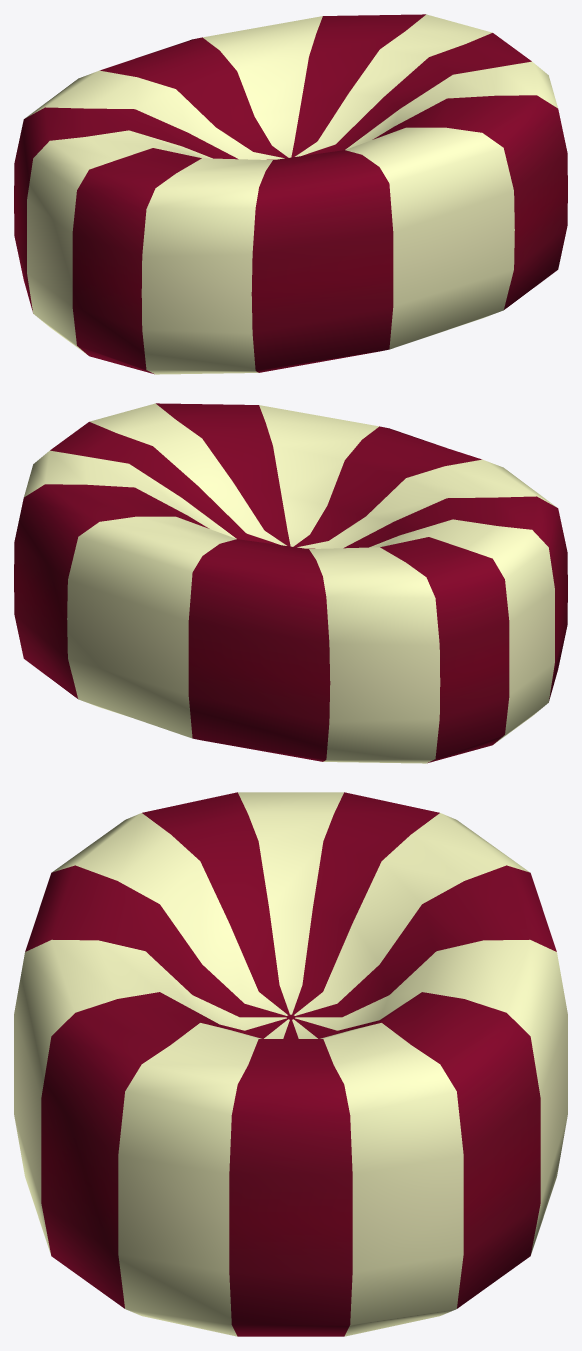
Rendered from candy_hard_18.fbx.
3 renders of one model, top to bottom at view 1: azimuth 30°, elevation 25°; view 2: azimuth 150°, elevation 25°; view 3: azimuth 270°, elevation 25°, orthographic. The views are drawn at different scales.
Visible parts, largest first — view 1: c_h_18; view 2: c_h_18; view 3: c_h_18.
Boxes of the visible parts, x1=… form: c_h_18: x1=14, y1=14, x2=567, y2=374; c_h_18: x1=14, y1=403, x2=567, y2=763; c_h_18: x1=14, y1=792, x2=567, y2=1336.
Size of the model in its own units: 156 by 57.64 by 115.
